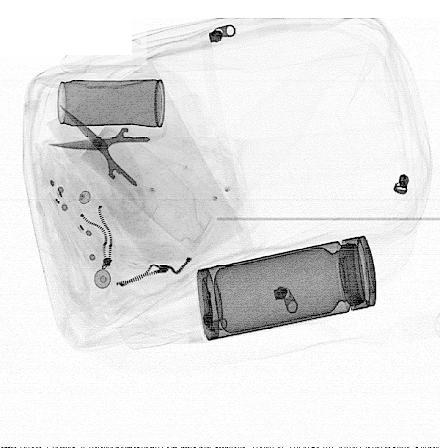Scissors: (46, 103, 170, 219)
